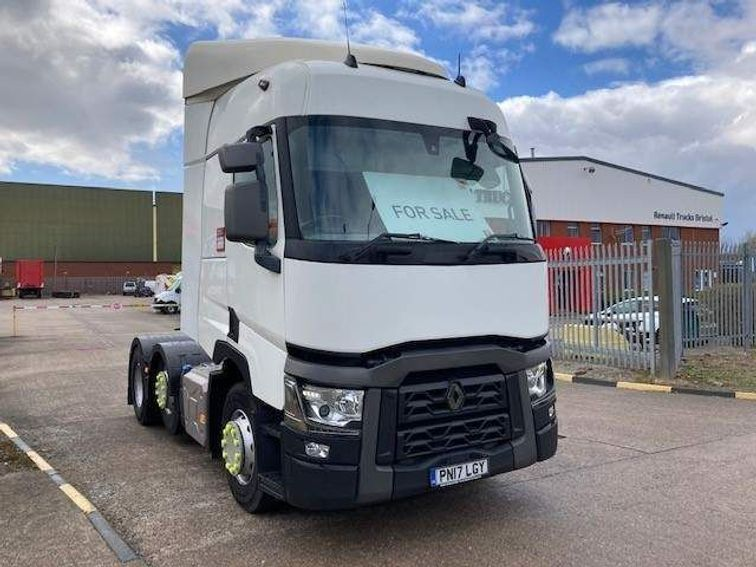Semi: (125, 38, 557, 517)
